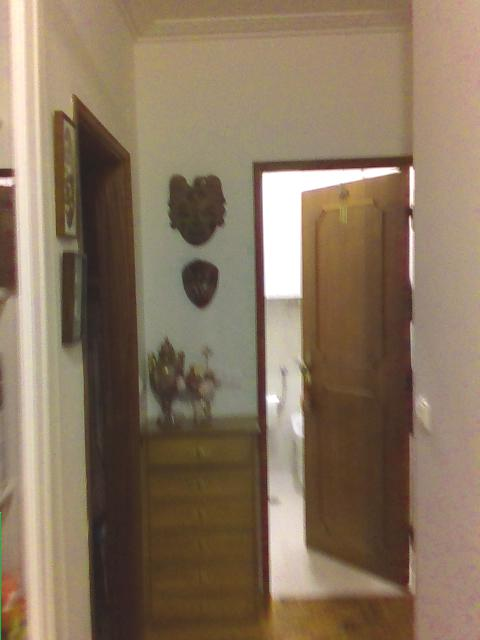semi_door: (247, 154, 417, 601)
